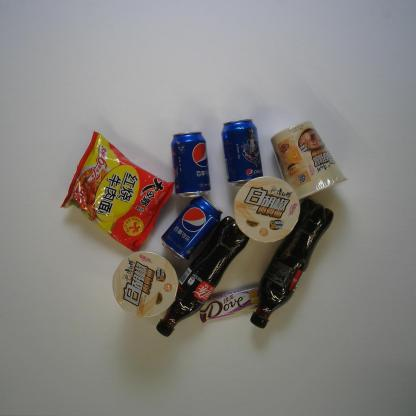Chocolate: (198, 284, 260, 324)
Drink: (155, 215, 250, 338), (249, 198, 334, 330), (160, 195, 224, 261), (220, 118, 264, 187), (170, 130, 212, 198)
Instant Noodles: (60, 129, 176, 253), (269, 120, 350, 201), (233, 175, 302, 244), (112, 250, 180, 319)
